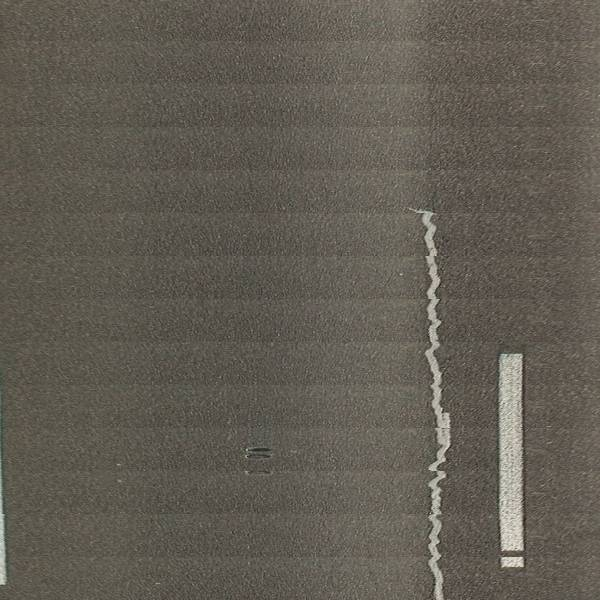road_damage: (237, 436, 275, 484)
